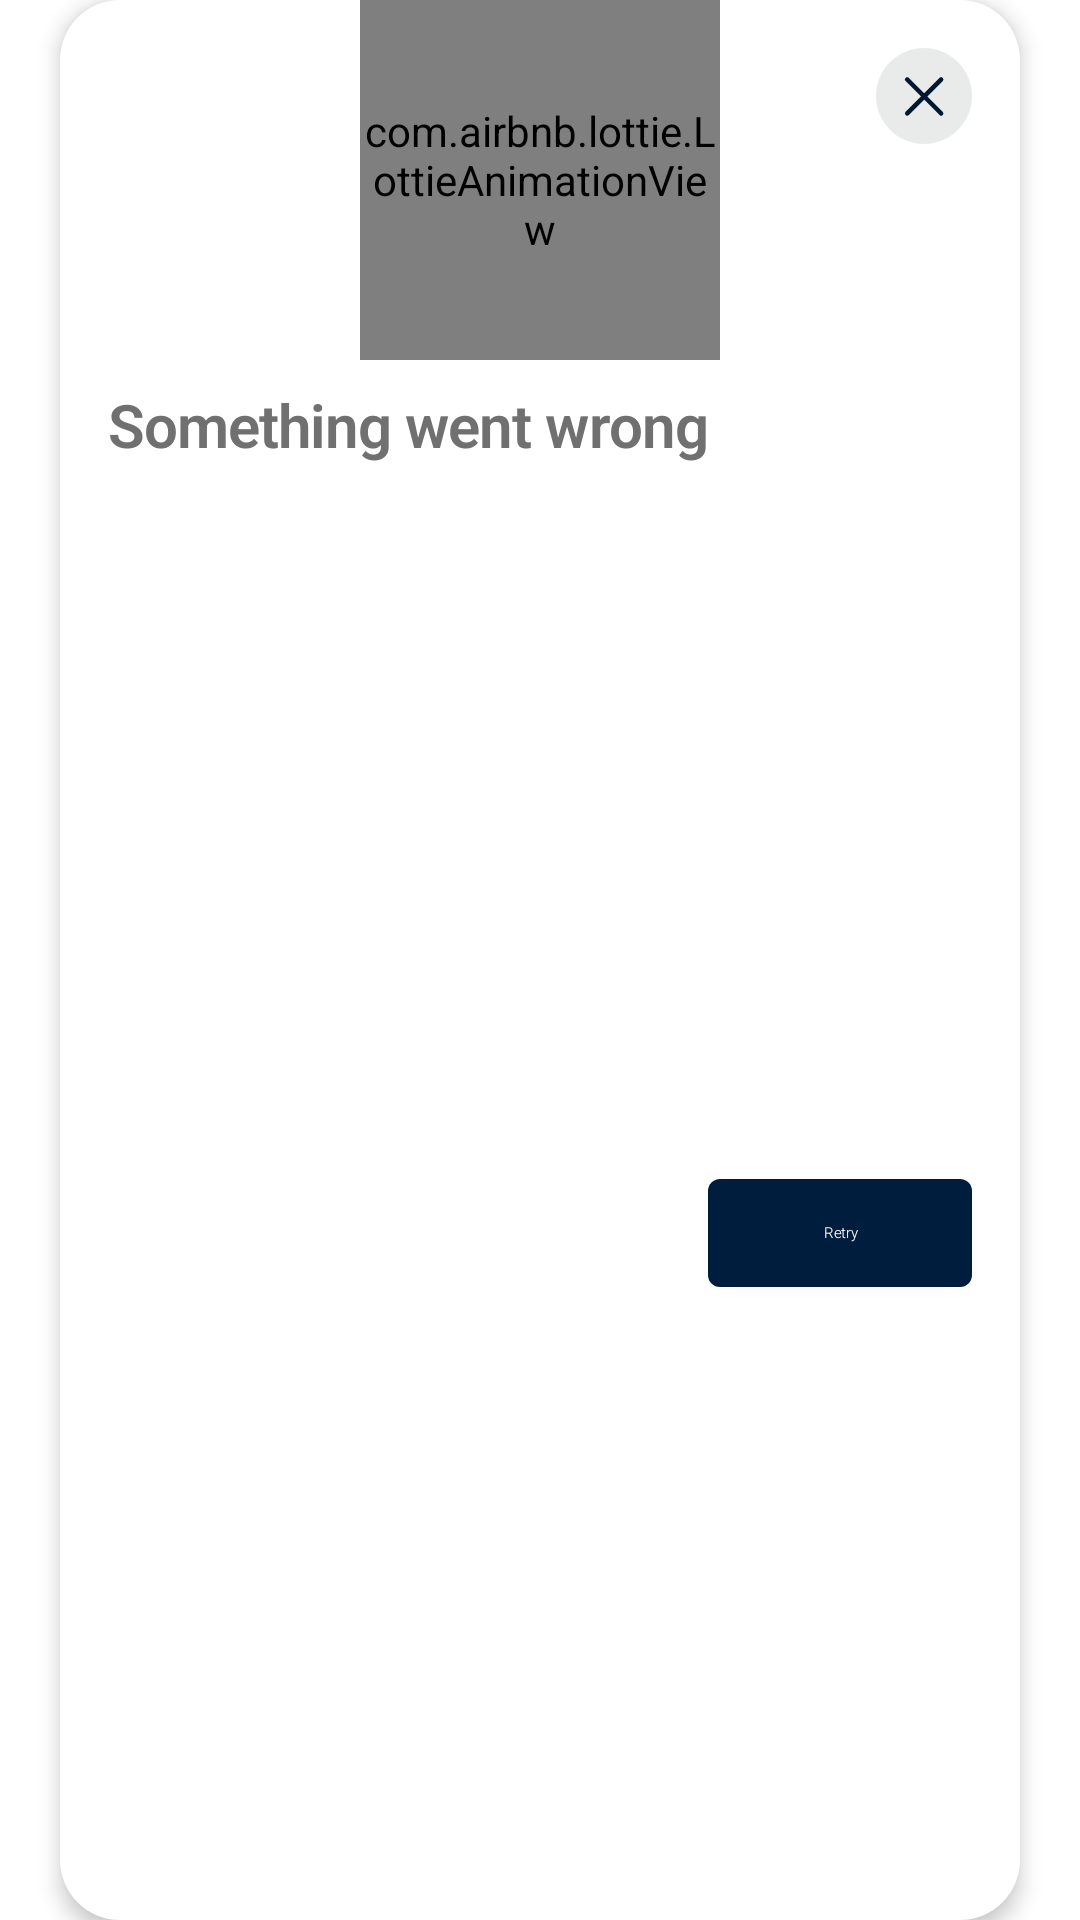

Icon click points for this 1080×1920 phone screenshot, format point (x, y):
symbol cross: point (924, 96)
